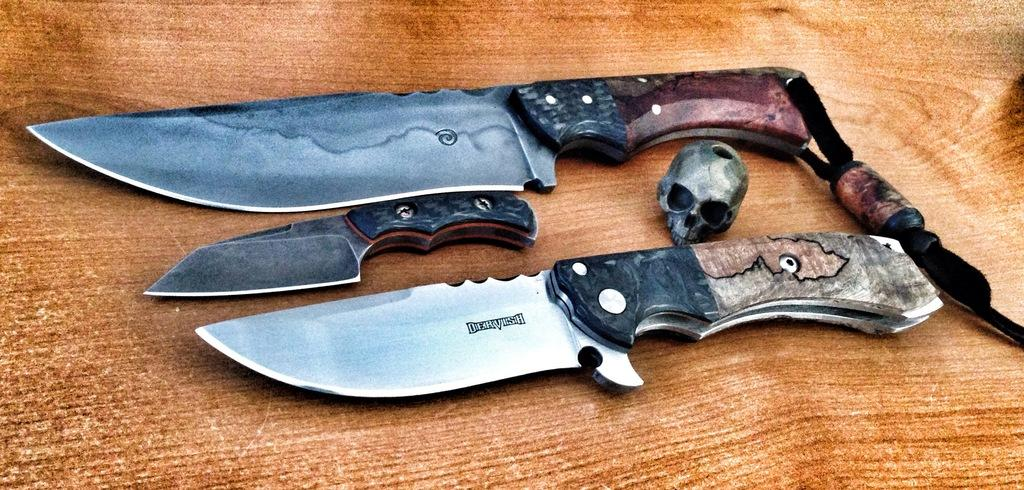Knife: (26, 56, 1023, 353), (191, 228, 941, 403), (136, 188, 546, 298)
